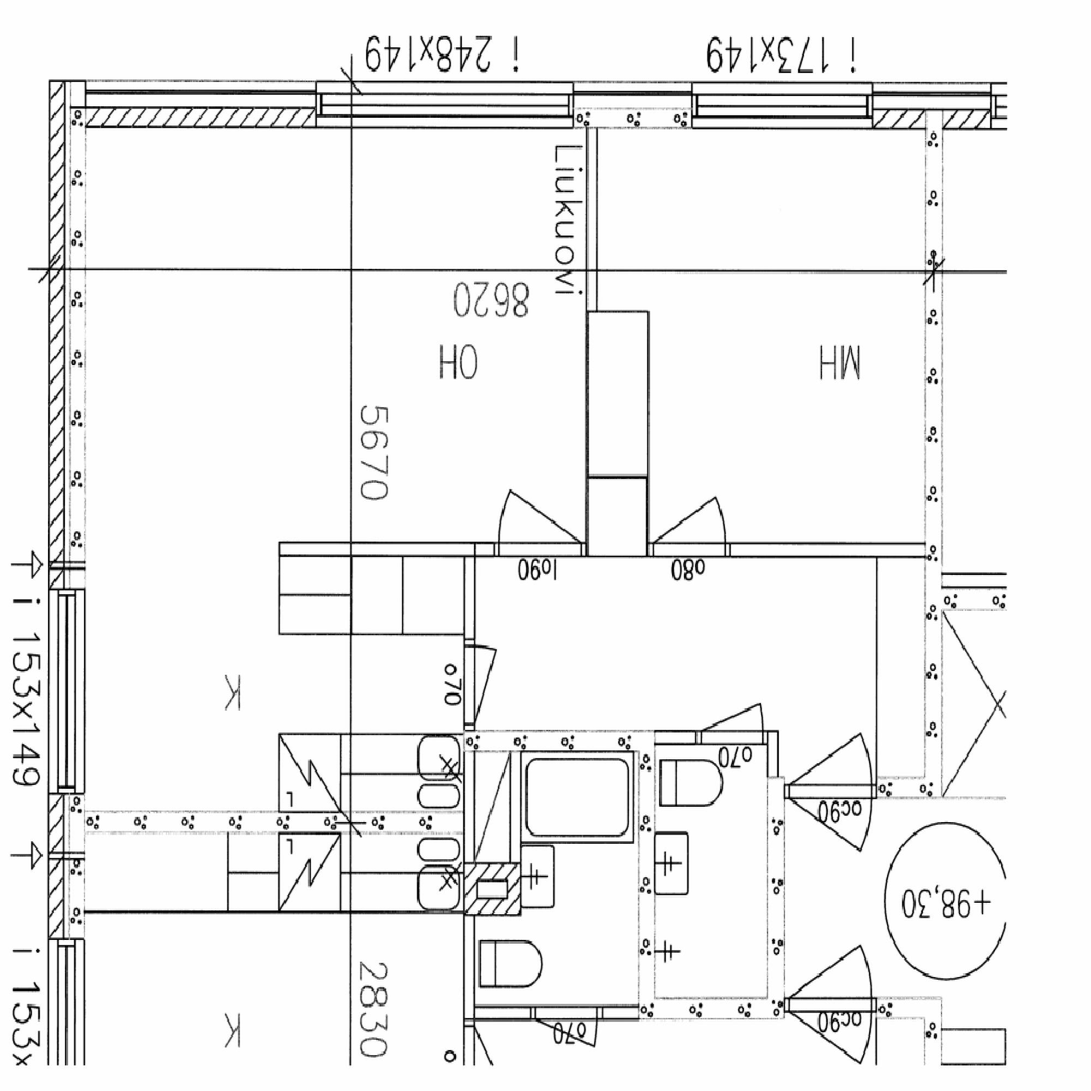wall: (48, 82, 943, 128), (48, 82, 84, 834), (926, 82, 942, 799), (48, 812, 476, 834), (638, 731, 655, 1020), (463, 731, 655, 753), (768, 779, 784, 1020), (647, 543, 927, 556), (768, 779, 943, 799), (638, 999, 784, 1020), (279, 543, 464, 556), (464, 544, 475, 731), (587, 128, 597, 313), (464, 543, 588, 556), (655, 731, 778, 744), (463, 731, 475, 834), (768, 731, 778, 779)
